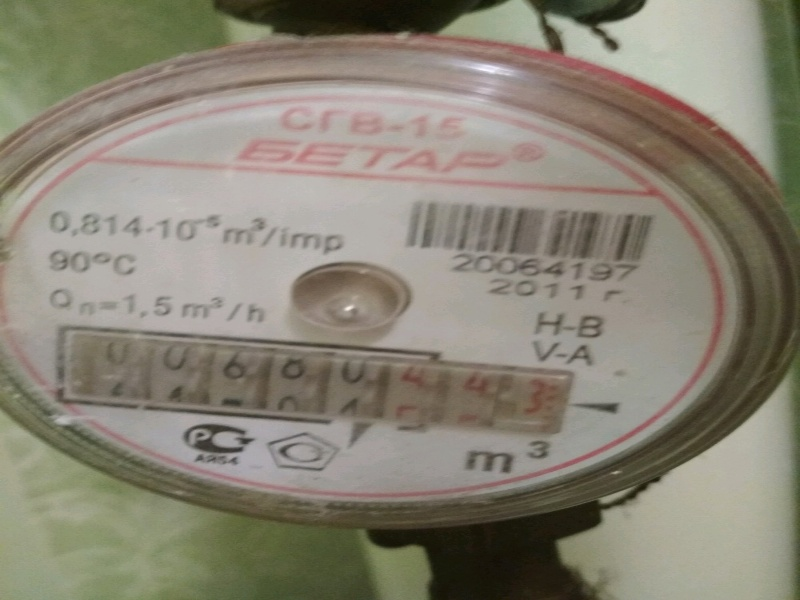meter: (79, 329, 547, 430)
